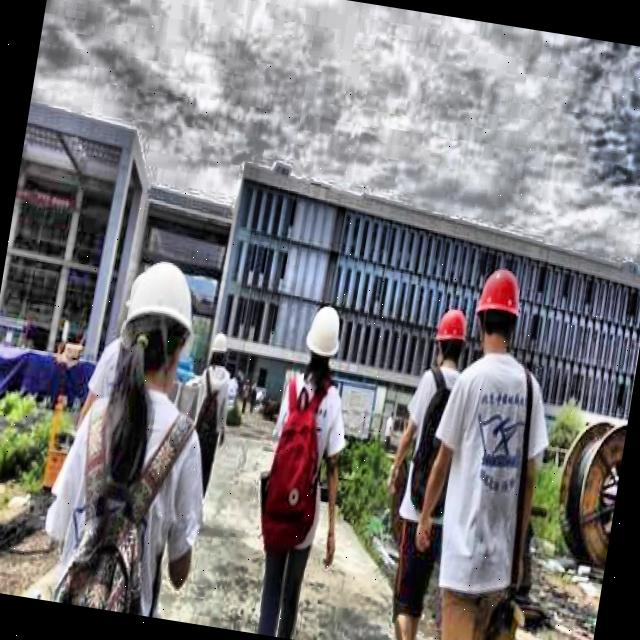helmet: (112, 250, 206, 394), (466, 264, 528, 360), (295, 300, 348, 380), (428, 300, 474, 372), (206, 327, 233, 372)
